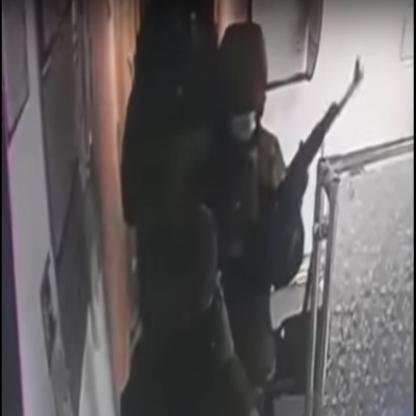al: (262, 53, 386, 266)
